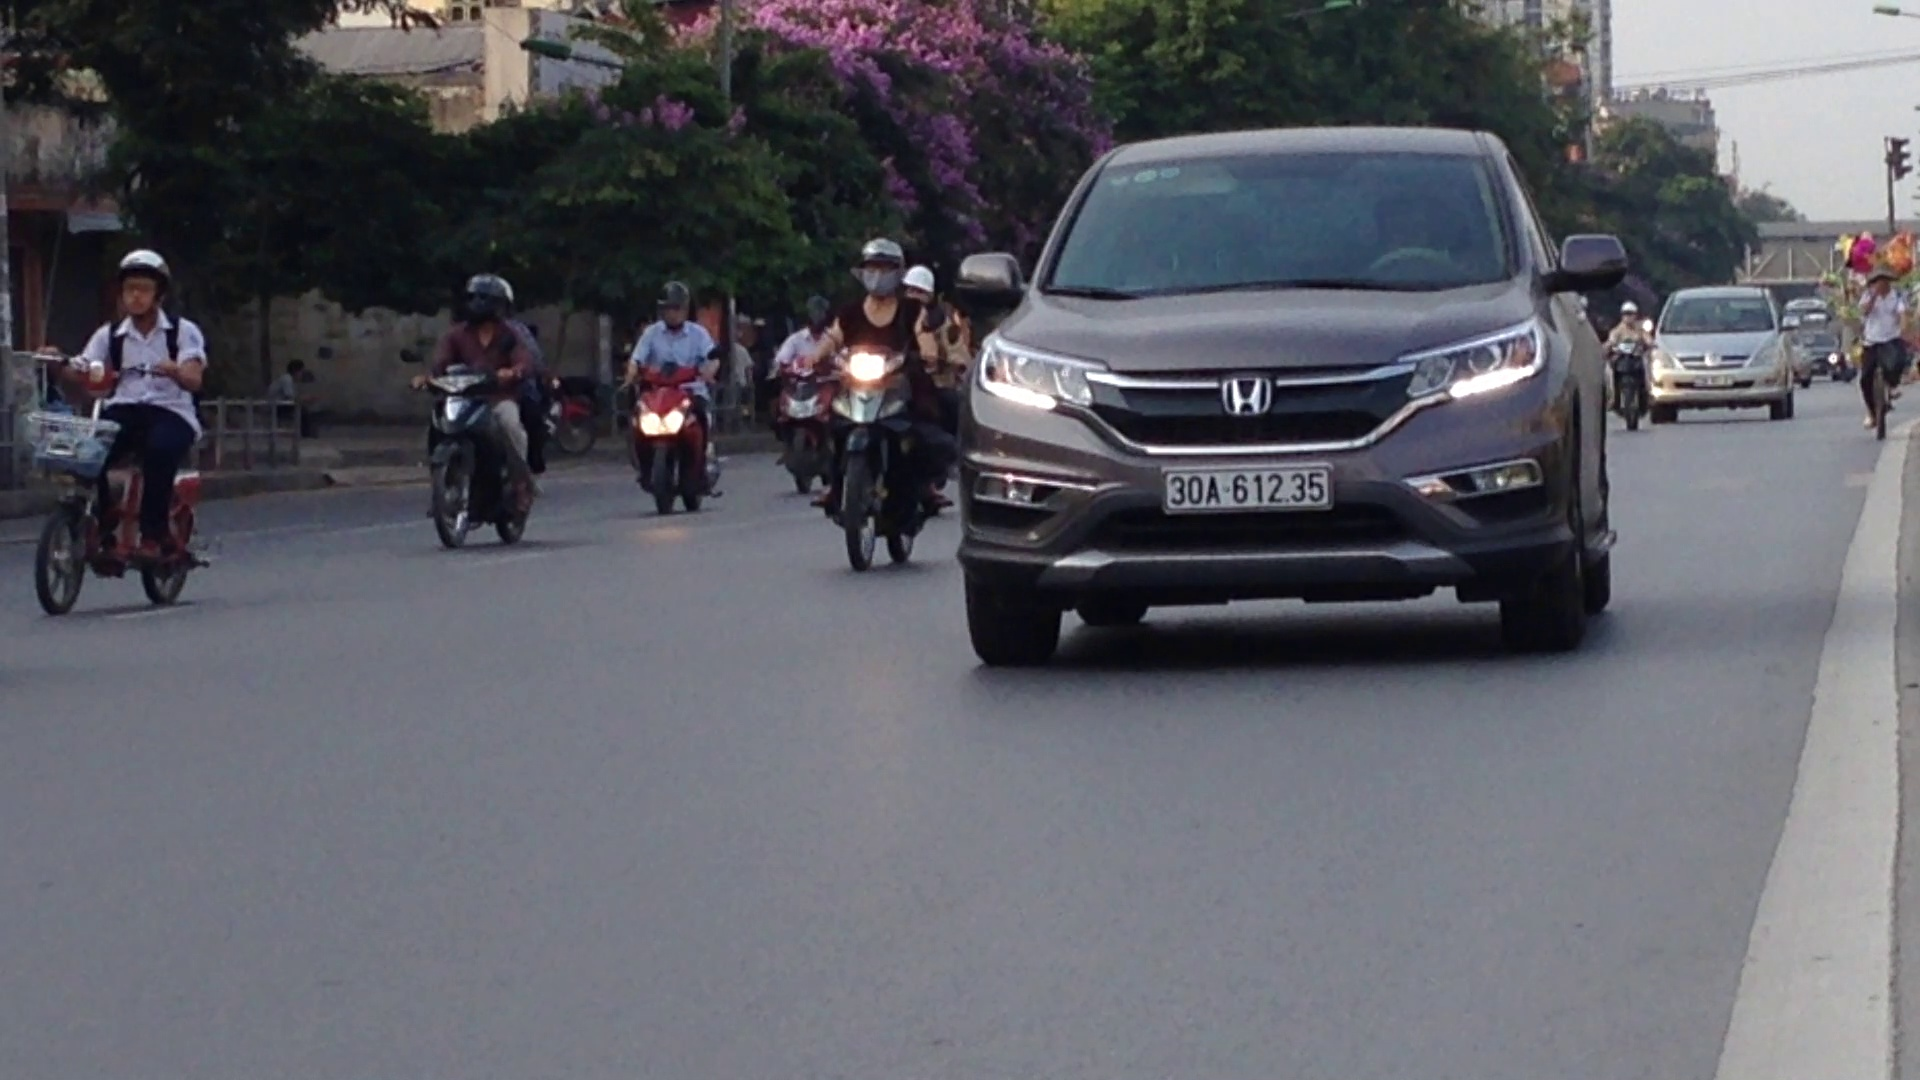person: (1158, 460, 1337, 511)
